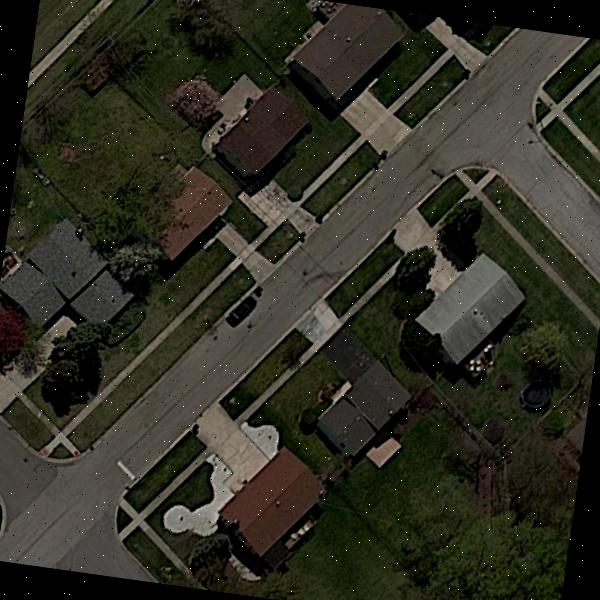Buildings: (412, 248, 526, 367), (296, 0, 410, 94), (221, 444, 317, 550), (5, 239, 116, 319), (225, 68, 300, 174), (314, 366, 400, 456), (165, 158, 235, 266)
